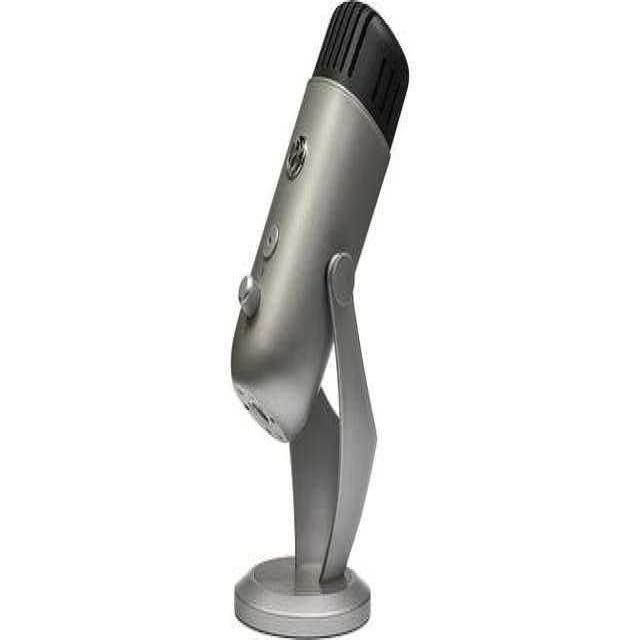microphone: (230, 4, 422, 414)
